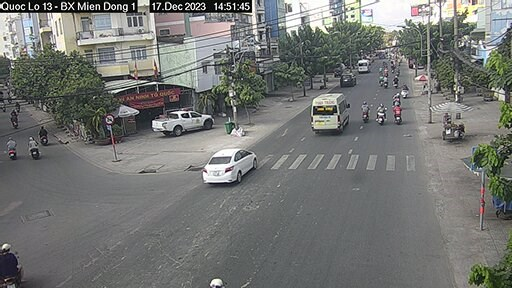car: (201, 145, 258, 191), (311, 84, 347, 134), (154, 109, 212, 134)
motorbike: (373, 103, 390, 125), (359, 97, 372, 123)
